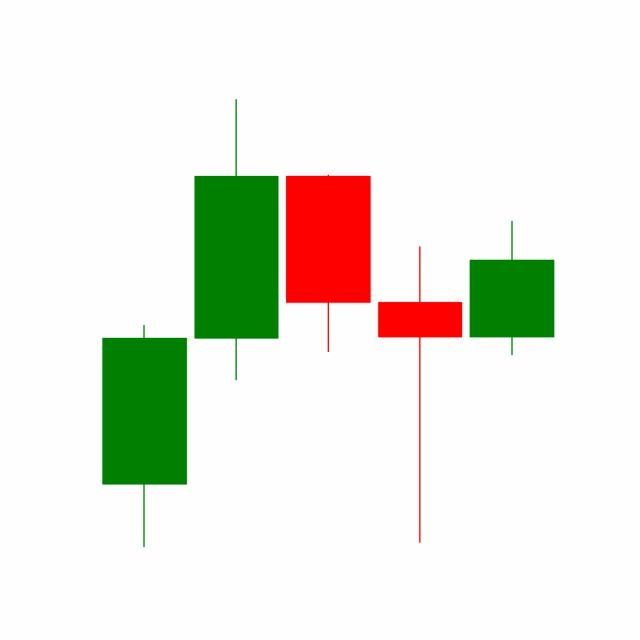Spinning Top: (373, 242, 467, 546)
